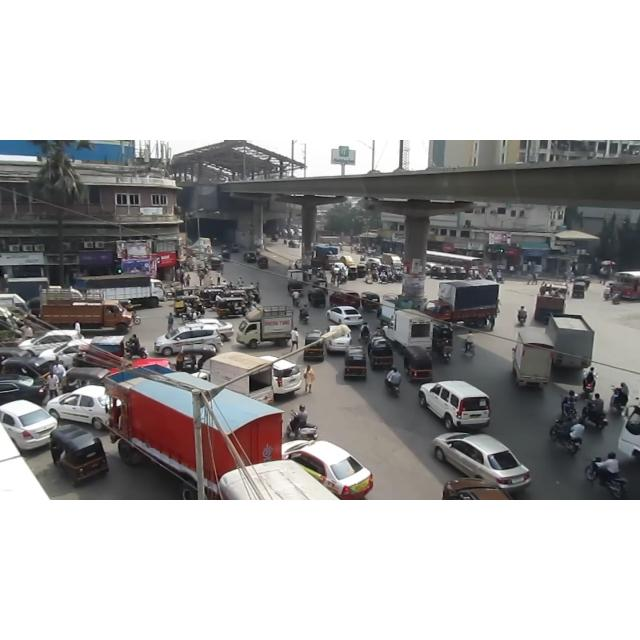auto: (45, 424, 111, 487), (399, 342, 435, 383), (340, 344, 376, 382), (371, 338, 397, 368), (432, 326, 457, 356), (304, 332, 328, 360), (573, 280, 587, 303), (311, 288, 327, 305), (258, 256, 272, 272)
car: (432, 432, 532, 492), (284, 440, 376, 500), (419, 381, 491, 431), (0, 400, 58, 450), (45, 385, 109, 429), (154, 323, 222, 357), (18, 329, 84, 355), (260, 356, 302, 395), (38, 338, 90, 368), (442, 478, 512, 500), (0, 374, 48, 404), (194, 318, 234, 342), (326, 326, 352, 354), (327, 306, 363, 326), (328, 291, 361, 309), (243, 252, 257, 264), (332, 262, 348, 272), (366, 258, 382, 268), (230, 243, 240, 253), (287, 241, 299, 249)
truck: (105, 365, 283, 499), (40, 289, 134, 335), (424, 280, 500, 328), (211, 354, 276, 406), (75, 274, 165, 308), (545, 314, 595, 369), (236, 305, 294, 349), (512, 330, 554, 386), (383, 310, 433, 350), (532, 282, 566, 322), (377, 294, 411, 326), (311, 244, 339, 270), (0, 291, 30, 311), (287, 266, 307, 287), (381, 253, 403, 271)
